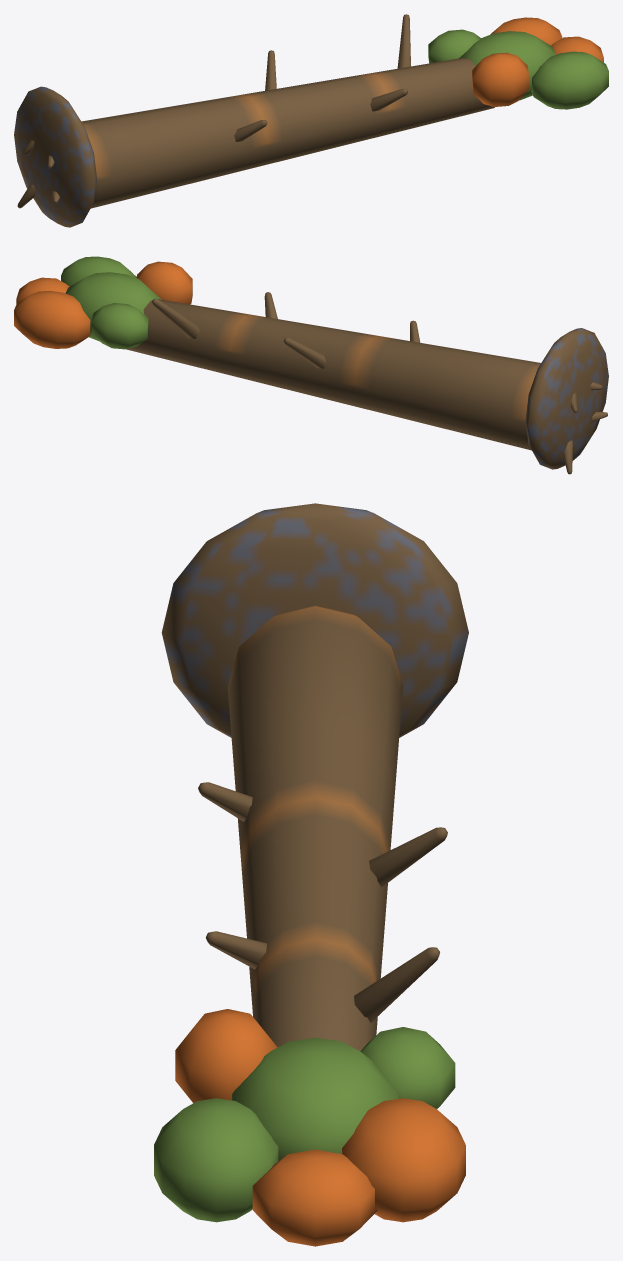
File: prop_fallentree12_fb08.glb
3 renders of one model, top to bottom at view 1: azimuth 30°, elevation 25°; view 2: azimuth 150°, elevation 25°; view 3: azimuth 270°, elevation 25°, orthographic. The views are drawn at different scales.
Parts seen in each view (by area): view 1: prop_fallentree12_fb08; view 2: prop_fallentree12_fb08; view 3: prop_fallentree12_fb08.
Part boxes in pixels (x1,y1,x2,y2): prop_fallentree12_fb08: (14, 14, 608, 227); prop_fallentree12_fb08: (14, 256, 608, 474); prop_fallentree12_fb08: (154, 503, 468, 1246).
Bounding box in the file's own units: 5.27 × 1.15 × 1.27.
Materials: 1 (1 with a texture image).
